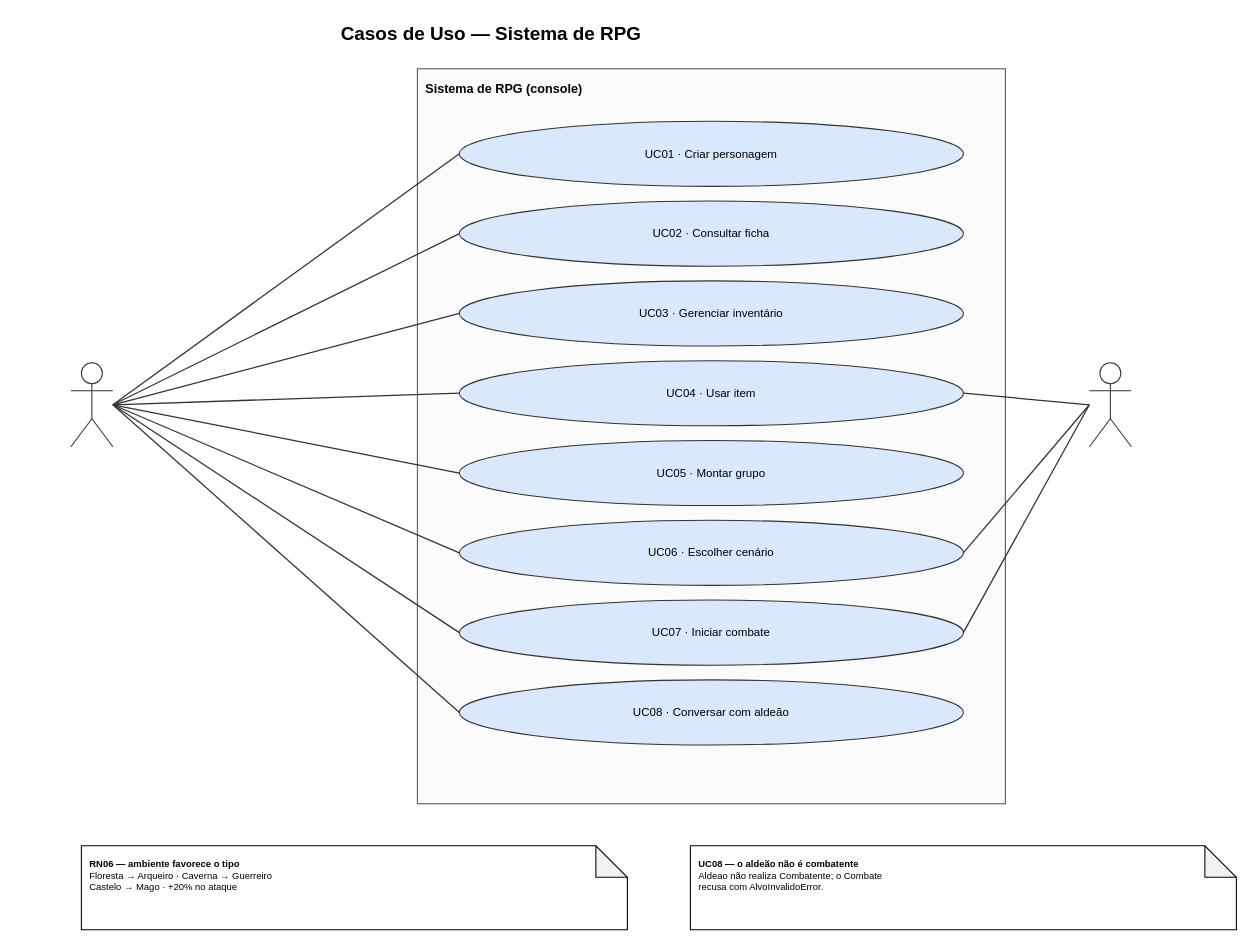
Some shapes in this 1255 by 948 pixel diagram are drawn without their labels. The centre of each missing label's shape, as x and y in pixels:
"Jogador" goes at point (91, 404).
"Sistema" goes at point (1109, 404).
